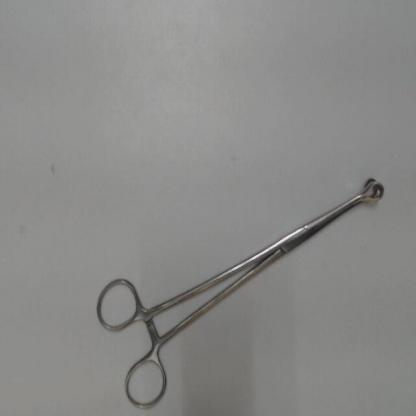8 Babcock Tissue Forceps: (92, 169, 389, 413)
